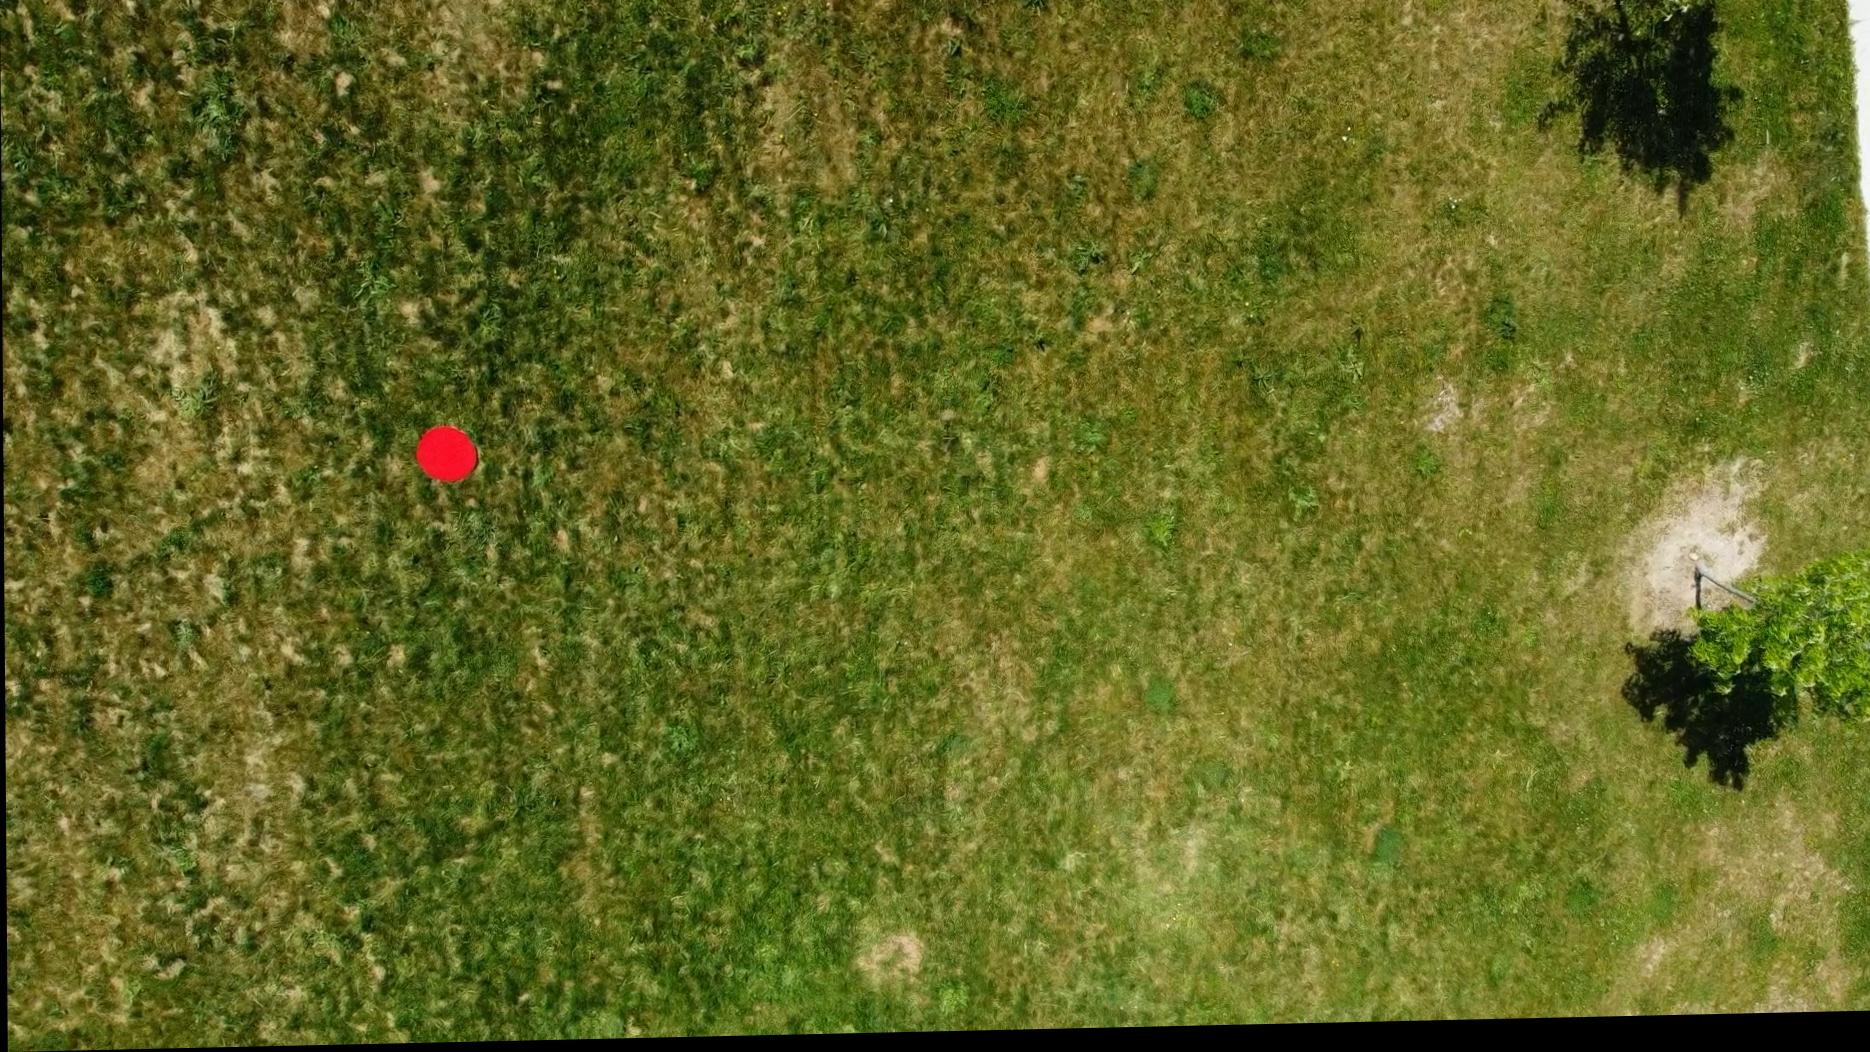Red: (412, 424, 479, 486)
